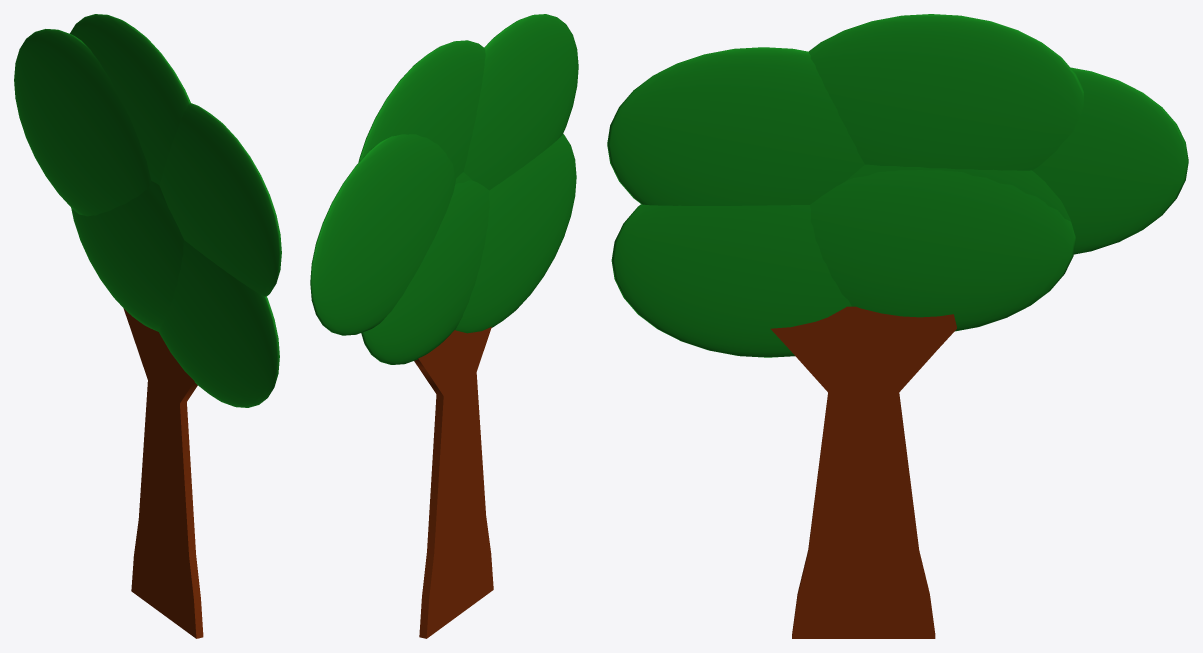
File: Tree_No_Board.FBX
3 views of the same model, side by side, from view 1: azimuth 30°, elevation 25°; view 2: azimuth 150°, elevation 25°; view 3: azimuth 270°, elevation 25° (orthographic). The views are drawn at different scales.
Visible parts, largest first — view 1: Sphere021, Box027, Sphere023, Sphere019, Sphere020, Sphere022; view 2: Sphere021, Box027, Sphere023, Sphere019, Sphere020, Sphere022; view 3: Box027, Sphere022, Sphere023, Sphere020, Sphere019, Sphere021, Sphere024.
Boxes of the visible parts, x1,y1,x2,y2 form: Sphere021: [14, 29, 151, 216]; Box027: [123, 308, 203, 638]; Sphere023: [159, 103, 281, 296]; Sphere019: [159, 240, 279, 407]; Sphere020: [71, 185, 184, 331]; Sphere022: [70, 14, 190, 184]; Sphere021: [310, 134, 455, 335]; Box027: [414, 326, 493, 638]; Sphere023: [463, 14, 578, 190]; Sphere019: [455, 134, 576, 333]; Sphere020: [361, 180, 489, 364]; Sphere022: [358, 40, 485, 178]; Box027: [770, 306, 956, 638]; Sphere022: [808, 14, 1083, 170]; Sphere023: [607, 47, 864, 205]; Sphere020: [810, 170, 1075, 331]; Sphere019: [611, 204, 851, 357]; Sphere021: [1032, 67, 1188, 254]; Sphere024: [846, 164, 1070, 221].
Bounding box in the file's own units: 3.84 × 102 × 86.19.
